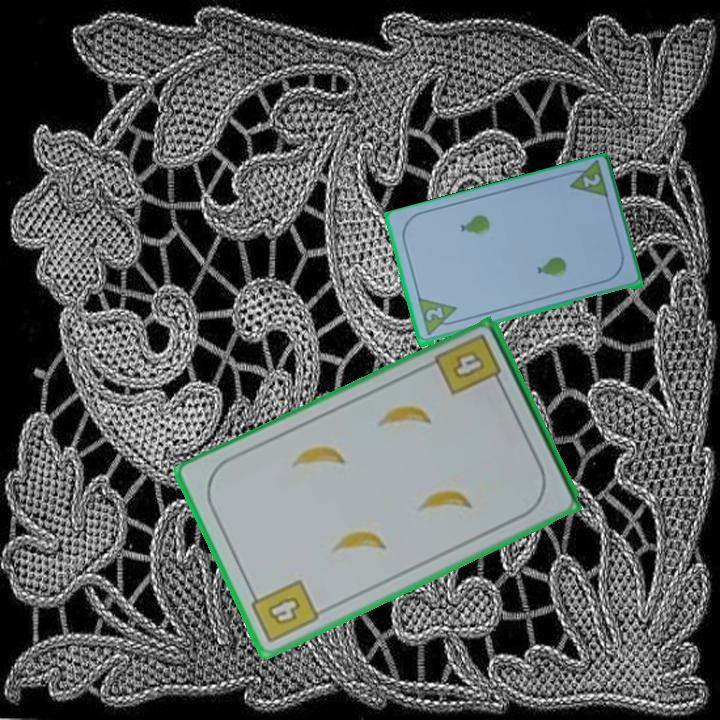2p: (422, 304, 446, 324), (579, 171, 603, 191)
4b: (245, 576, 322, 647), (431, 330, 507, 399)
